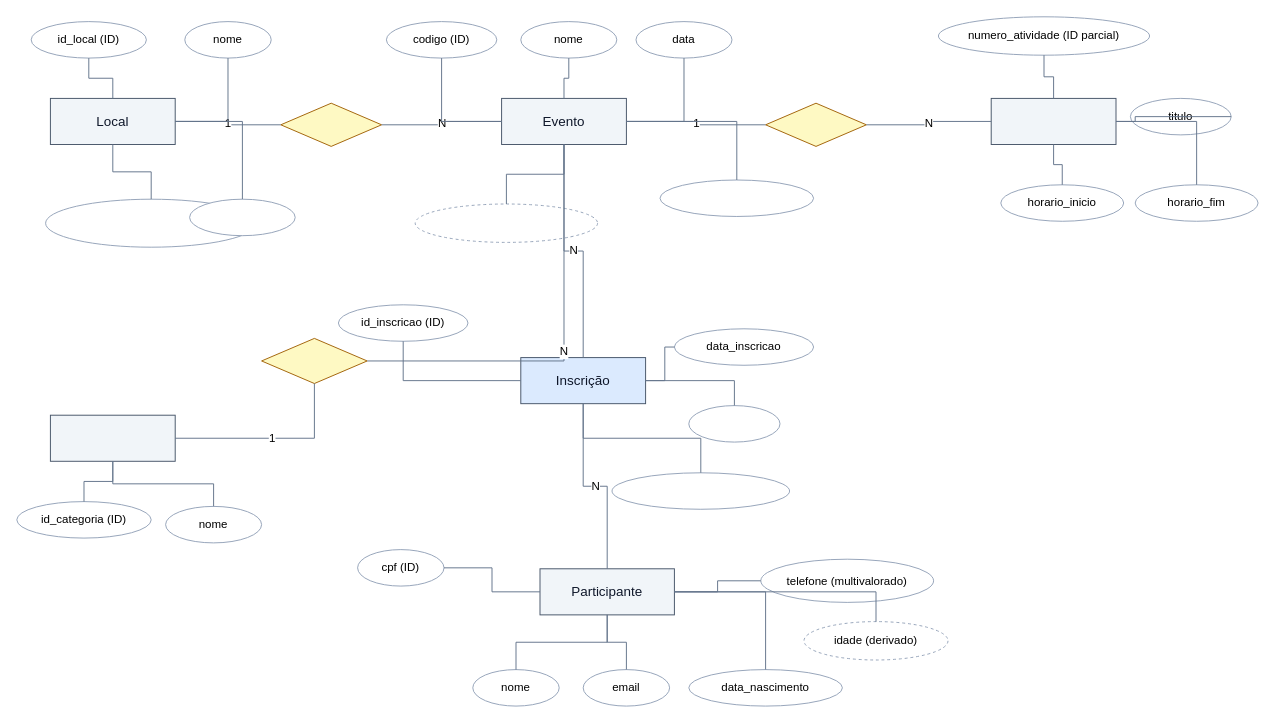
Image size: 1275x723. Some labels were removed from this diagram. The shapes that lost their labels are listed below. From the top down, each one's box as (x1, y1, x2, y2) in pixels, then its label:
(280, 102, 382, 146): Sedia
(765, 102, 866, 146): Possui
(990, 97, 1116, 144): Atividade
(189, 198, 295, 236): capacidade
(659, 179, 814, 216): capacidade_maxima
(45, 198, 257, 247): endereço: logradouro / número / cidade
(414, 203, 598, 242): vagas_disponiveis (derivado)
(261, 337, 367, 384): Classifica
(49, 414, 175, 461): Categoria
(688, 405, 780, 442): status
(611, 472, 790, 509): data_cancelamento
